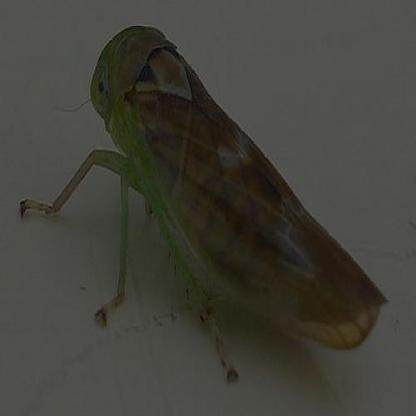green-leafhopper: (83, 17, 387, 354)
